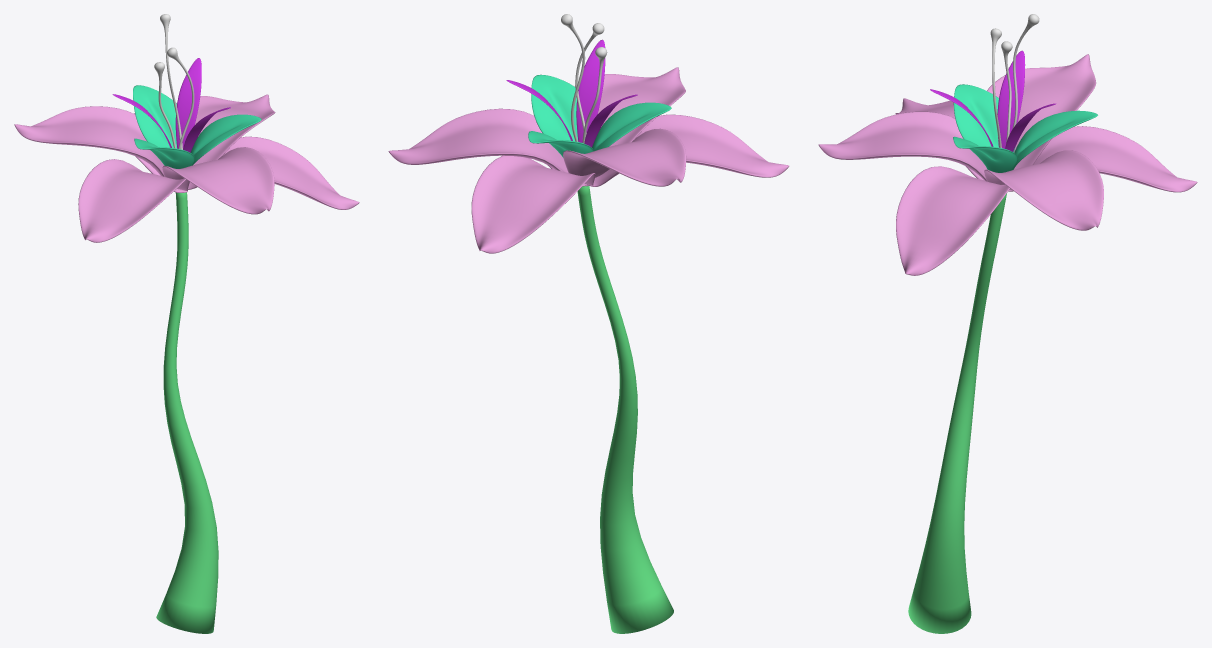
The model's file is cybrer_flower.fbx.
3 views of the same model, side by side, from view 1: azimuth 30°, elevation 25°; view 2: azimuth 150°, elevation 25°; view 3: azimuth 270°, elevation 25° (orthographic). The views are drawn at different scales.
Visible parts, largest first — view 1: Vert.005, Plane.006, Plane.007, Plane.005, Plane.004, Plane.003, Plane.001, Plane.008, Plane.002, Vert, Plane.009; view 2: Vert.005, Plane, Plane.003, Plane.007, Plane.006, Plane.005, Plane.008, Plane.009, Plane.010, Vert, Plane.001; view 3: Vert.005, Plane.004, Plane.003, Plane.005, Plane, Plane.007, Plane.009, Plane.001, Plane.011, Vert, Plane.008, Plane.006.
Part boxes in pixels (x1,y1,x2,y2): Vert.005: (156, 192, 218, 633); Plane.006: (78, 159, 189, 242); Plane.007: (14, 106, 187, 192); Plane.005: (162, 147, 274, 214); Plane.004: (187, 136, 359, 209); Plane.003: (176, 94, 275, 165); Plane.001: (133, 85, 176, 148); Plane.008: (190, 114, 261, 165); Plane.002: (175, 58, 201, 149); Vert: (154, 14, 194, 149); Plane.009: (134, 138, 195, 168); Vert.005: (577, 186, 673, 633); Plane: (471, 155, 595, 253); Plane.003: (388, 108, 587, 186); Plane.007: (563, 128, 686, 186); Plane.006: (587, 114, 789, 186); Plane.005: (574, 67, 685, 186); Plane.008: (531, 74, 578, 141); Plane.009: (592, 102, 671, 151); Plane.010: (576, 39, 605, 142); Vert: (561, 14, 607, 143); Plane.001: (528, 131, 593, 157); Vert.005: (908, 193, 1006, 633); Plane.004: (896, 166, 1012, 275); Plane.003: (984, 150, 1103, 230); Plane.005: (818, 111, 987, 181); Plane: (1008, 126, 1197, 192); Plane.007: (987, 54, 1096, 169); Plane.009: (953, 84, 1015, 169); Plane.001: (1012, 110, 1097, 169); Plane.011: (997, 50, 1025, 148); Vert: (990, 14, 1039, 147); Plane.008: (953, 136, 1018, 172); Plane.006: (895, 98, 983, 179).
Bounding box in the file's own units: 708 × 1431 × 794.
